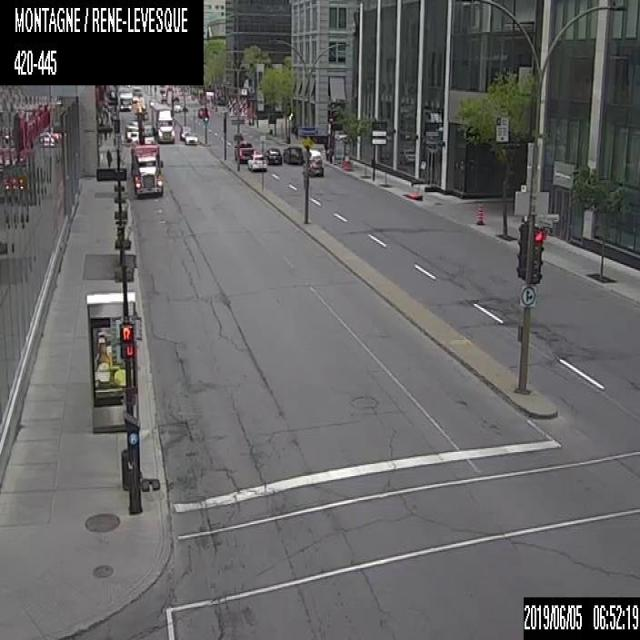bus: (119, 92, 132, 110)
construction: (476, 201, 484, 224), (407, 191, 421, 199)
pedestrian: (105, 148, 112, 168)
vehicle: (129, 142, 162, 196), (149, 101, 175, 142), (233, 139, 255, 162), (282, 144, 304, 163), (247, 152, 266, 170), (308, 158, 326, 176), (265, 146, 281, 164), (125, 124, 139, 138), (185, 130, 198, 144), (179, 125, 193, 138), (196, 107, 209, 117)
